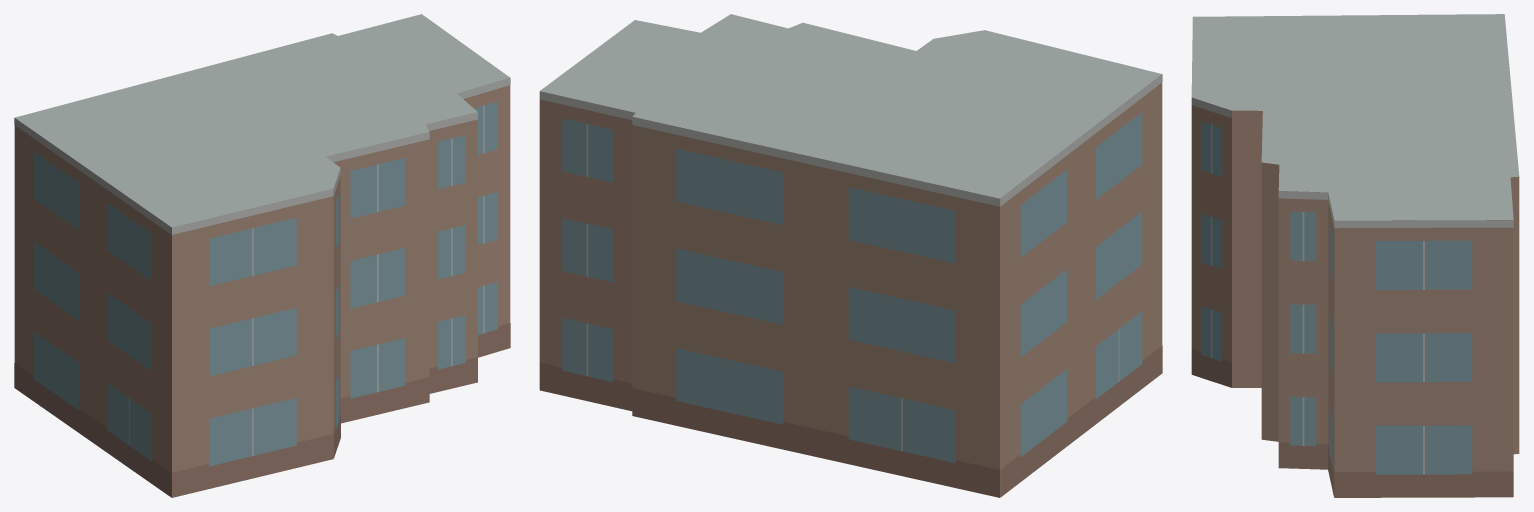
Rendered from survey-upis-32940667.glb.
3 views of the same model, side by side, from view 1: azimuth 30°, elevation 25°; view 2: azimuth 150°, elevation 25°; view 3: azimuth 270°, elevation 25° (orthographic). The views are drawn at different scales.
Visible parts, largest first — view 1: survey-upis-32940667.tmp; view 2: survey-upis-32940667.tmp; view 3: survey-upis-32940667.tmp.
Boxes of the visible parts, x1,y1,x2,y2 form: survey-upis-32940667.tmp: (14, 14, 510, 497); survey-upis-32940667.tmp: (539, 14, 1162, 497); survey-upis-32940667.tmp: (1191, 14, 1519, 497).
Size of the model in its own units: 14.4 by 9 by 9.66.
